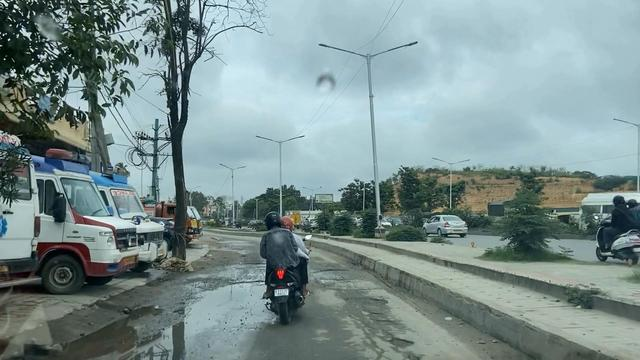LMV: (263, 210, 306, 315)
RoadDamages: (349, 291, 411, 360), (199, 247, 255, 294), (317, 264, 378, 290)
